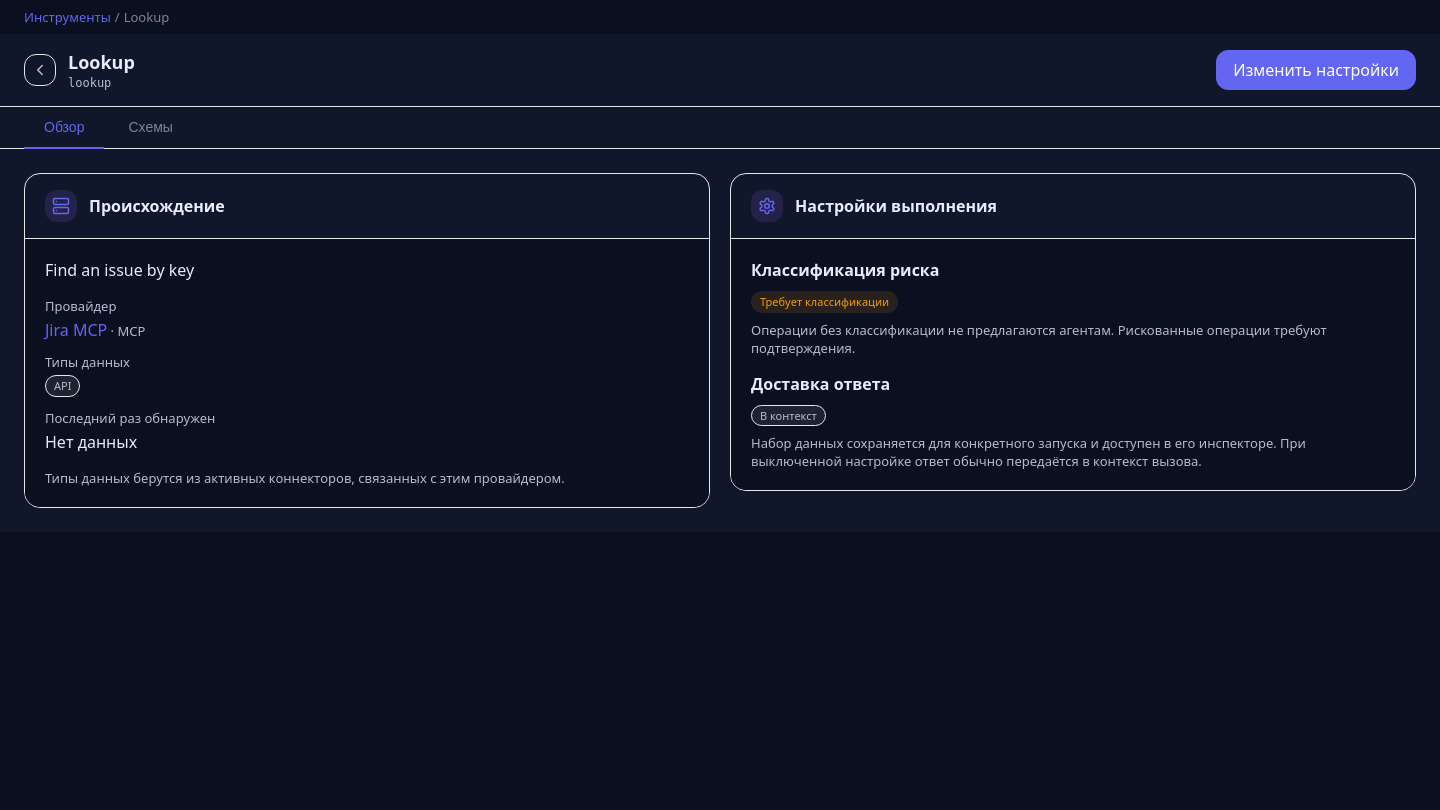
tool settings › retains the delivery change after a failed save and only sends the changed setting
Click the button "Изменить настройки" at (1316, 70), box [1216,50,1416,90]
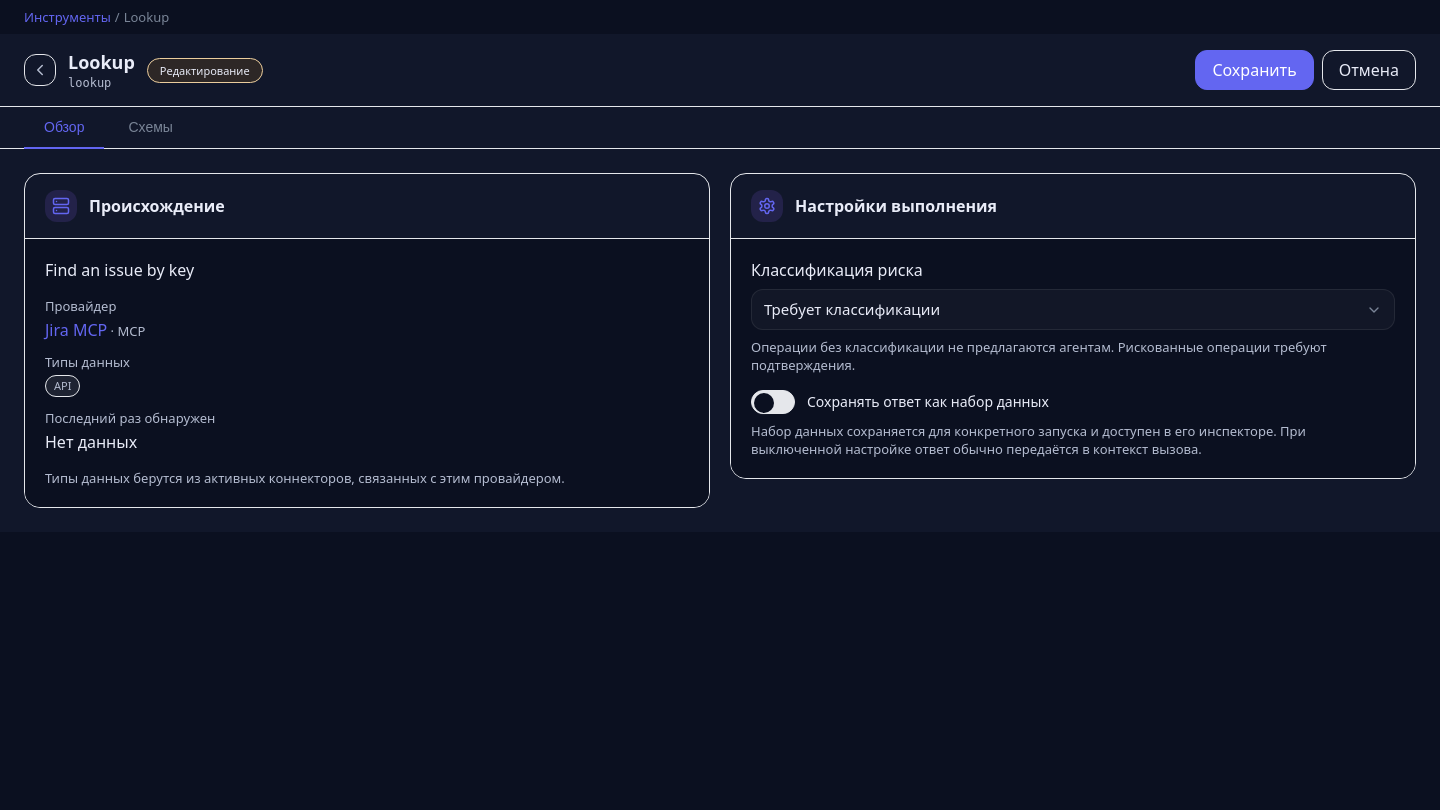
Click the checkbox labelled "Сохранять ответ как набор данных" at (900, 402), box [751,390,1049,414]
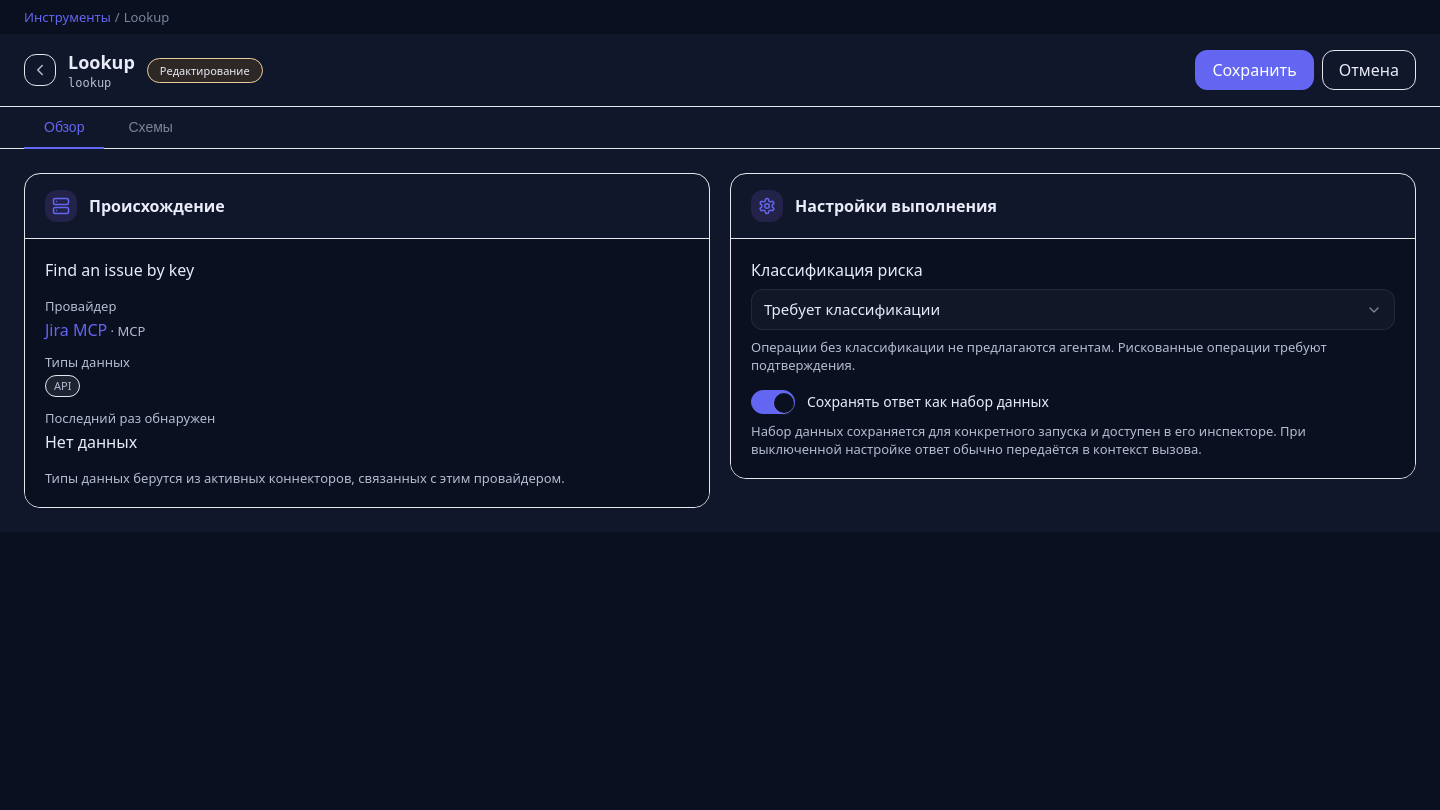
Click the button "Сохранить" at (1255, 70), box [1195,50,1314,90]
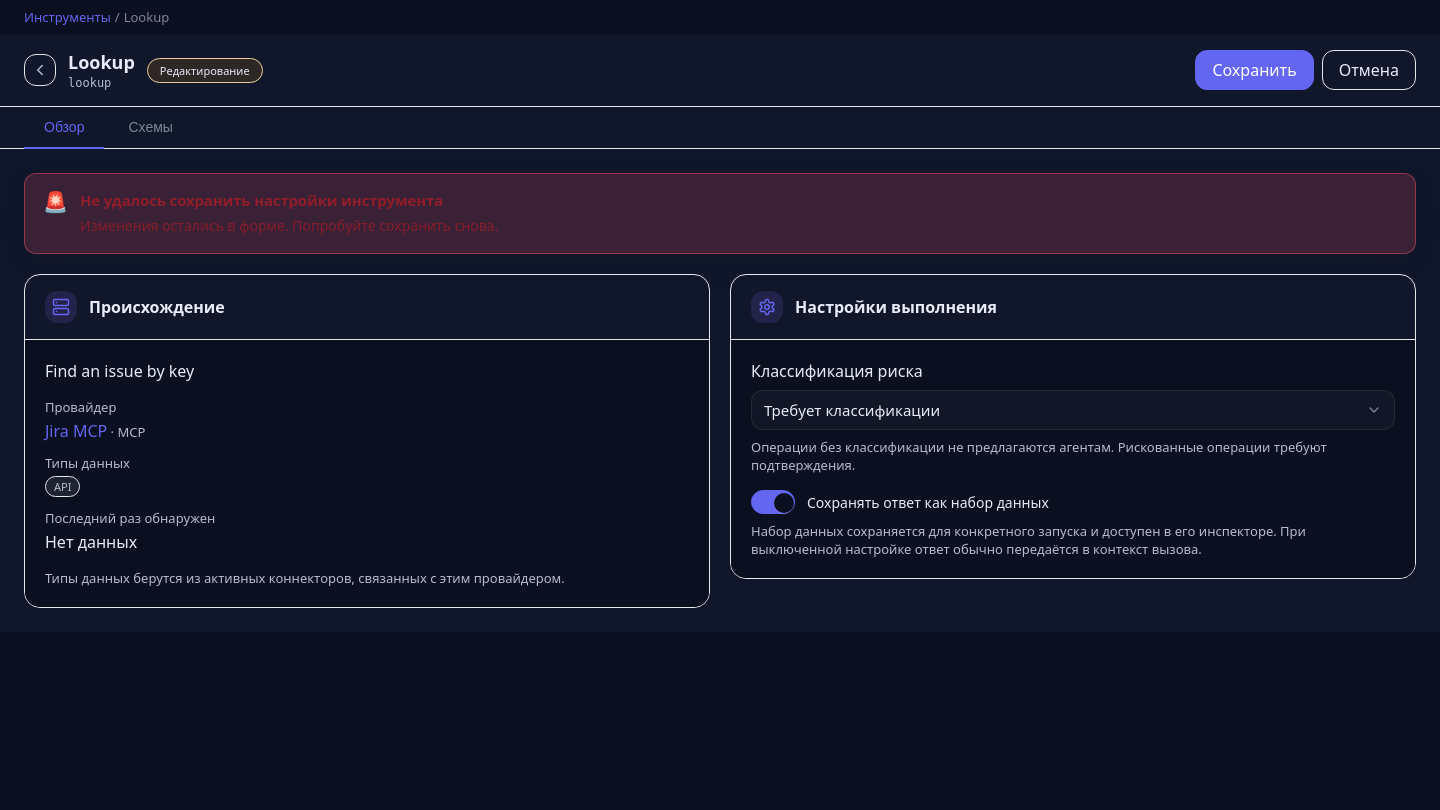
Now the checkbox labelled "Сохранять ответ как набор данных" is checked, box [751,490,1049,514]
Now the message shows "Не удалось сохранить настройки инструмента", box [80,190,443,210]
Click the button "Сохранить" at (1255, 70), box [1195,50,1314,90]
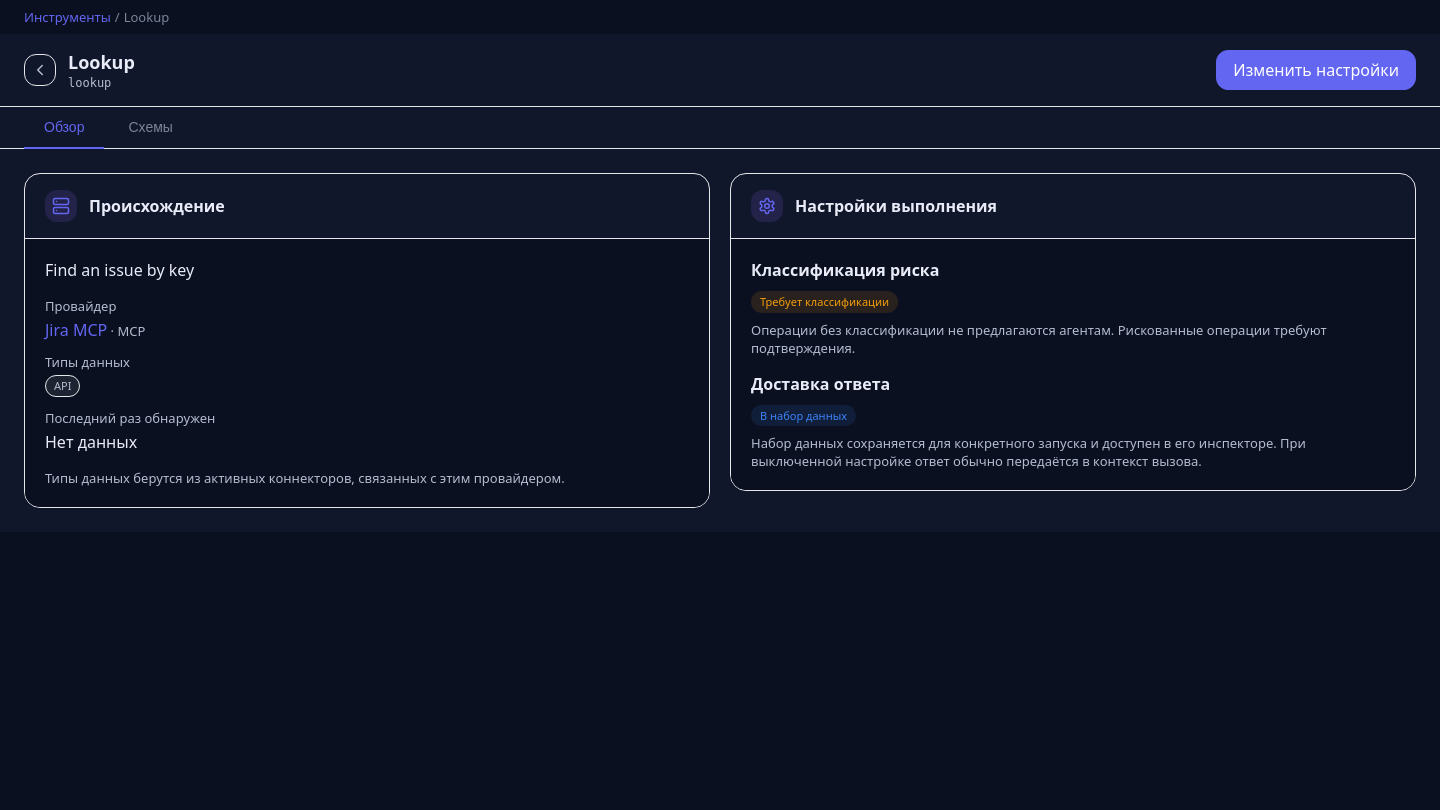
Now the checkbox is gone
Now the text "В набор данных" is shown, box [751,405,856,426]
